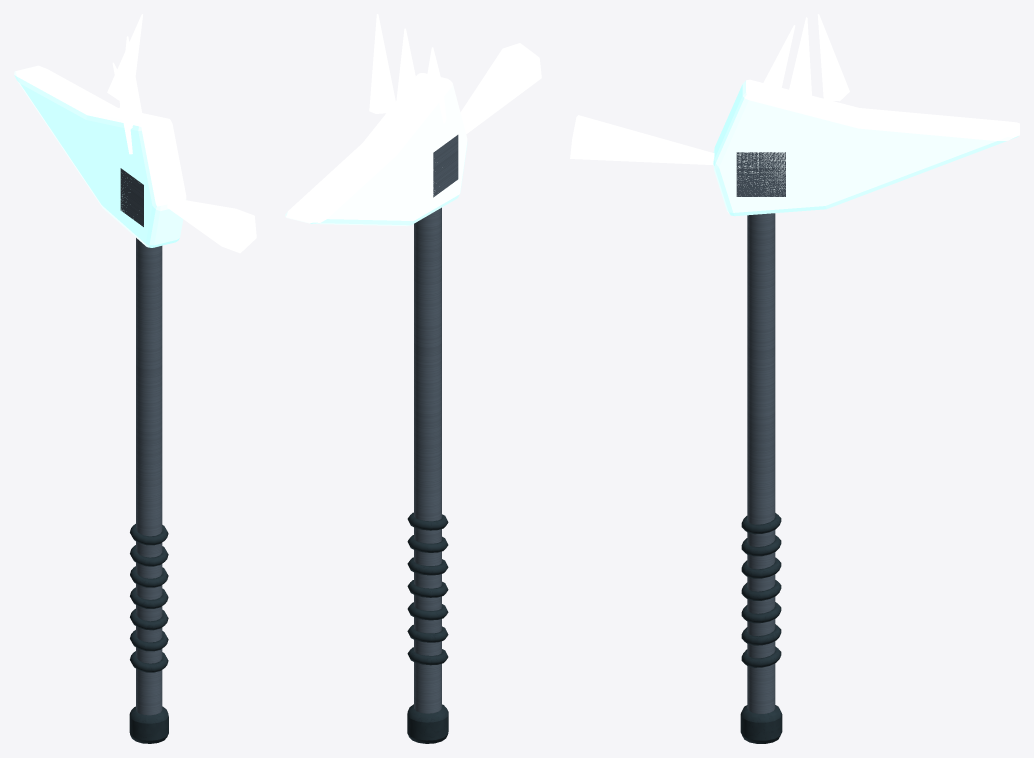
File: pickaxe_frostbite.glb
The picture shows the model from 3 angles, left to right: view 1: azimuth 30°, elevation 25°; view 2: azimuth 150°, elevation 25°; view 3: azimuth 270°, elevation 25°; orthographic projection. The views are drawn at different scales.
Visible parts, largest first — view 1: pickaxe_frostbite; view 2: pickaxe_frostbite; view 3: pickaxe_frostbite.
Boxes of the visible parts, <box> form: pickaxe_frostbite: <box>14,14,256,743</box>; pickaxe_frostbite: <box>285,14,541,743</box>; pickaxe_frostbite: <box>570,14,1019,743</box>.
Bounding box in the file's own units: 0.0619 × 0.9884 × 0.549.
4 materials, 2 textured.
